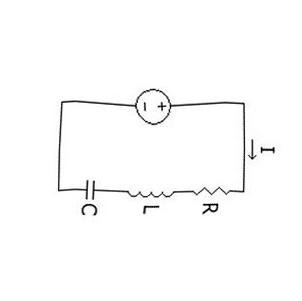Battery: (124, 78, 180, 133)
